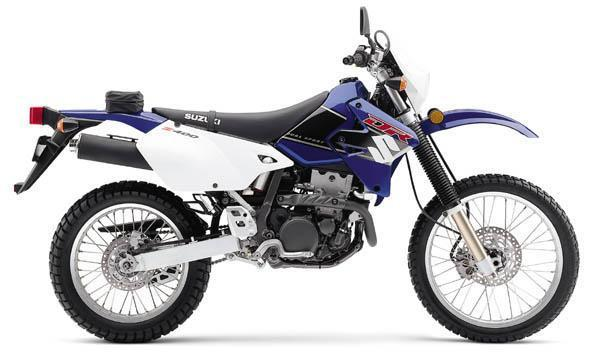motorcycle: (16, 5, 590, 353)
